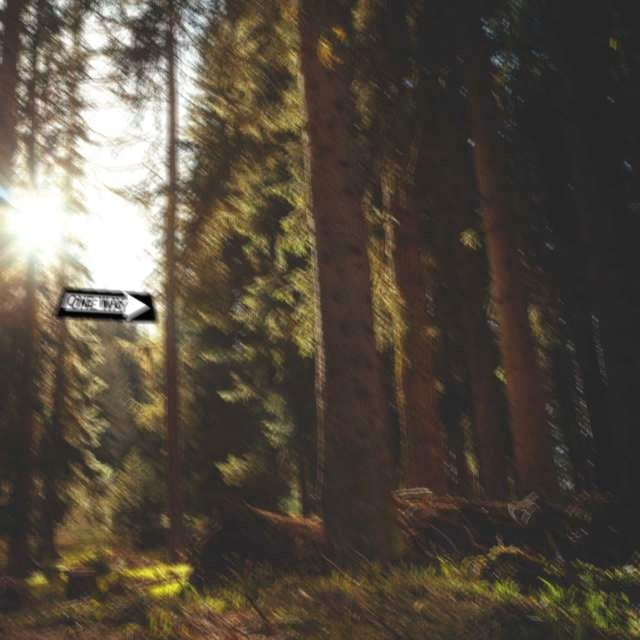ONE_WAY_ right: (54, 286, 159, 321)
